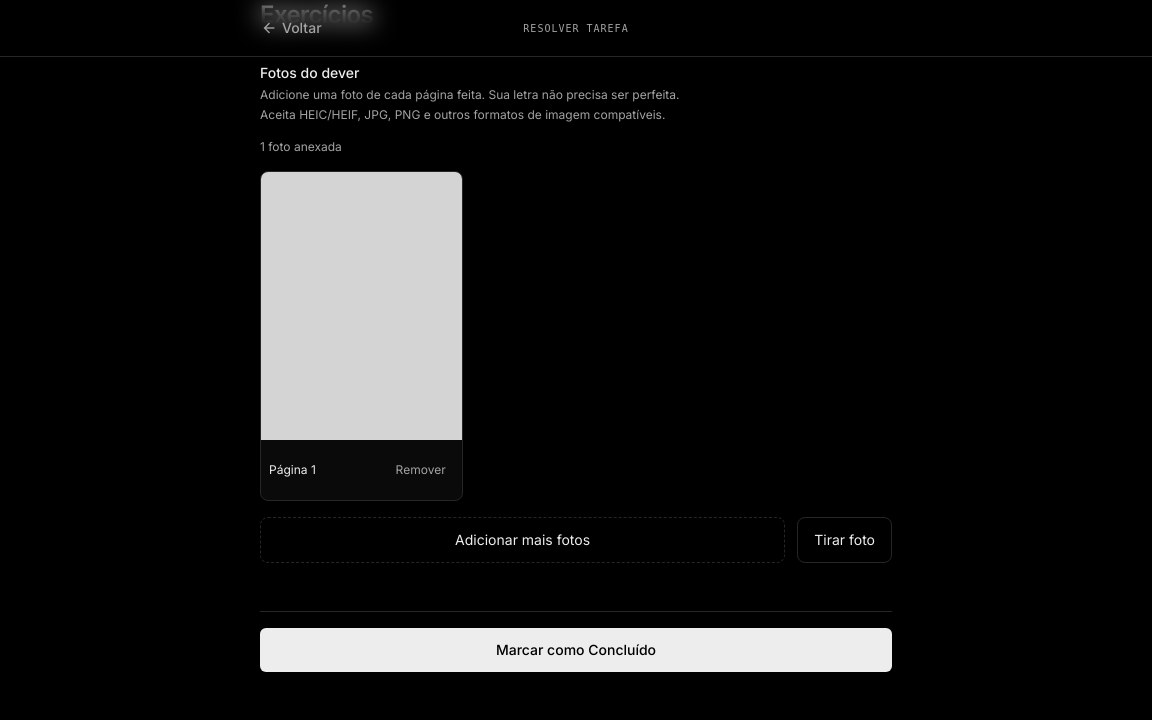
Scenario: completion with multiple pages › invalidates removed photos when the same file is attached again
Earlier steps of the test are not shown.
Later steps or results of the test are not shown.
(page scrolled)
Step 1. Click the button "Marcar como Concluído" → (576, 650), box [260,628,892,672]
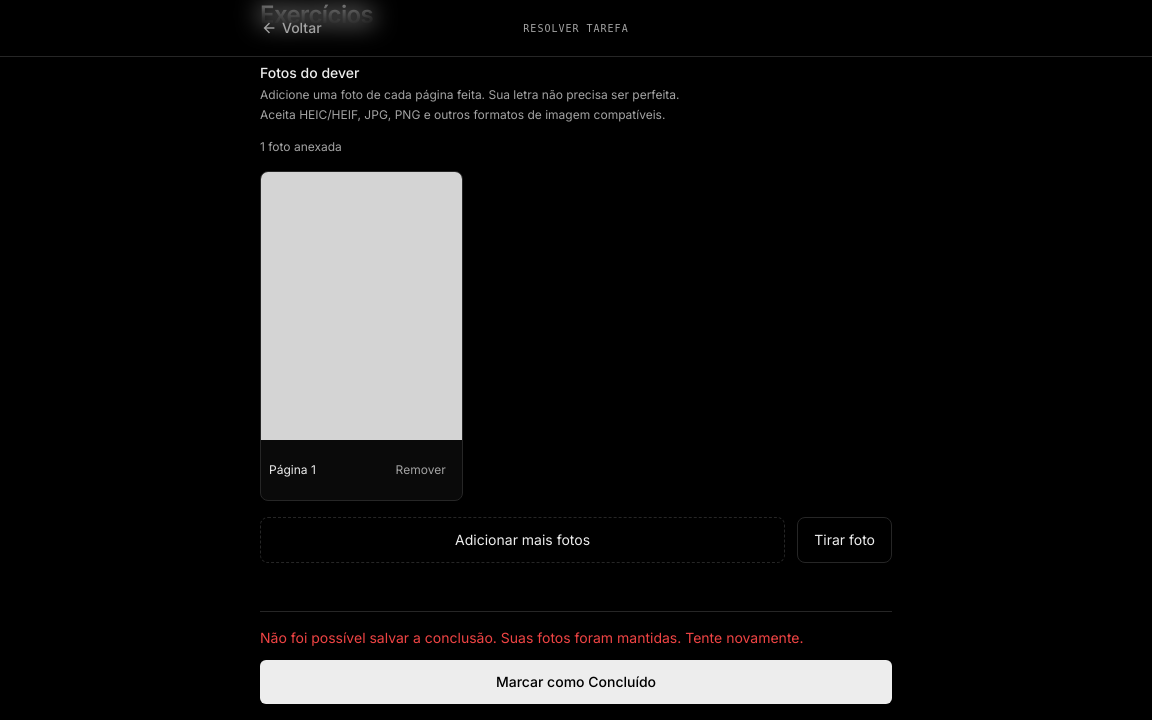
Now the message is shown, box [260,628,892,648]
